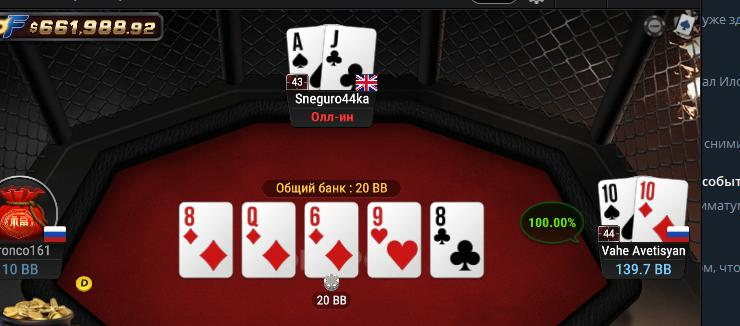10d: (636, 177, 687, 244)
10s: (597, 179, 634, 243)
6d: (306, 203, 358, 276)
8c: (431, 203, 485, 277)
8d: (180, 203, 232, 278)
9h: (368, 203, 421, 277)
As: (286, 27, 323, 92)
Jc: (324, 25, 377, 88)
Qd: (243, 203, 296, 277)
